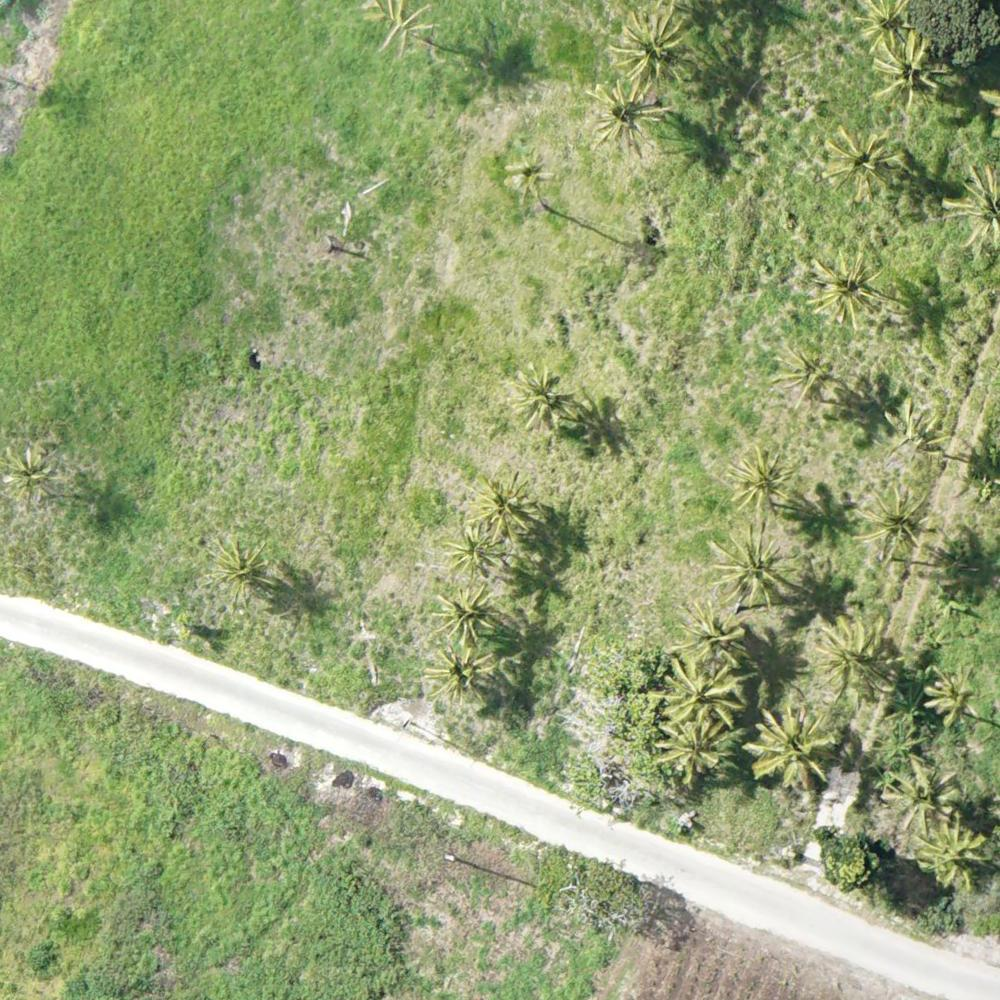Palm: (816, 611, 900, 701), (708, 526, 792, 611), (608, 8, 691, 90), (855, 485, 937, 565), (751, 707, 837, 783), (825, 124, 905, 205), (588, 77, 667, 157), (813, 247, 888, 327), (661, 659, 746, 729), (869, 38, 946, 115), (205, 529, 280, 605), (721, 446, 800, 516), (668, 604, 748, 671), (652, 713, 730, 781), (463, 469, 541, 535), (500, 365, 571, 434), (770, 344, 839, 414), (429, 581, 499, 649), (886, 763, 957, 830), (917, 824, 986, 891), (439, 521, 512, 584), (429, 643, 498, 708), (917, 663, 980, 727), (4, 446, 61, 508), (858, 1, 919, 55), (503, 145, 559, 201)
